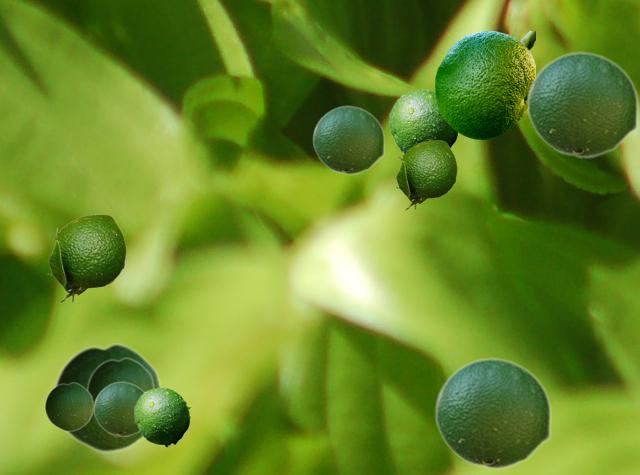dalandan: (434, 357, 551, 469), (52, 341, 162, 453), (526, 51, 638, 158), (435, 31, 534, 138), (47, 214, 125, 302), (312, 105, 384, 174), (389, 89, 458, 152), (395, 140, 456, 209), (134, 387, 191, 446), (86, 356, 154, 398), (94, 381, 143, 436), (44, 381, 93, 431)
